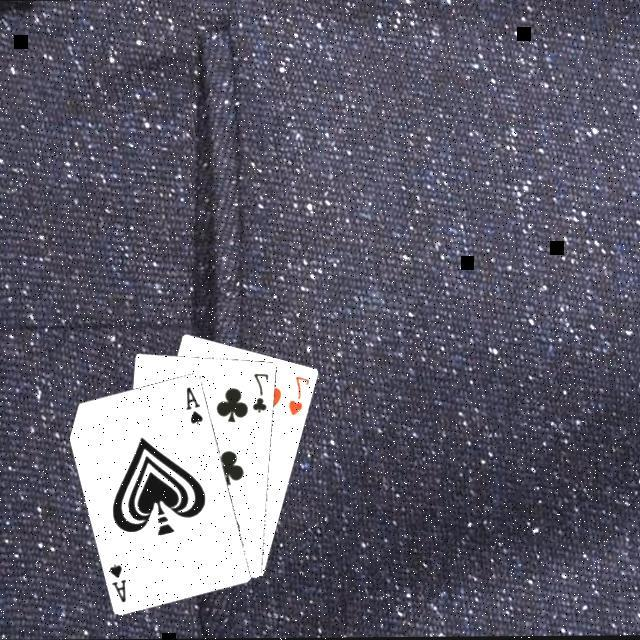7C: (248, 368, 272, 414)
7H: (284, 371, 312, 418)
AS: (105, 558, 128, 604), (182, 381, 206, 425)
